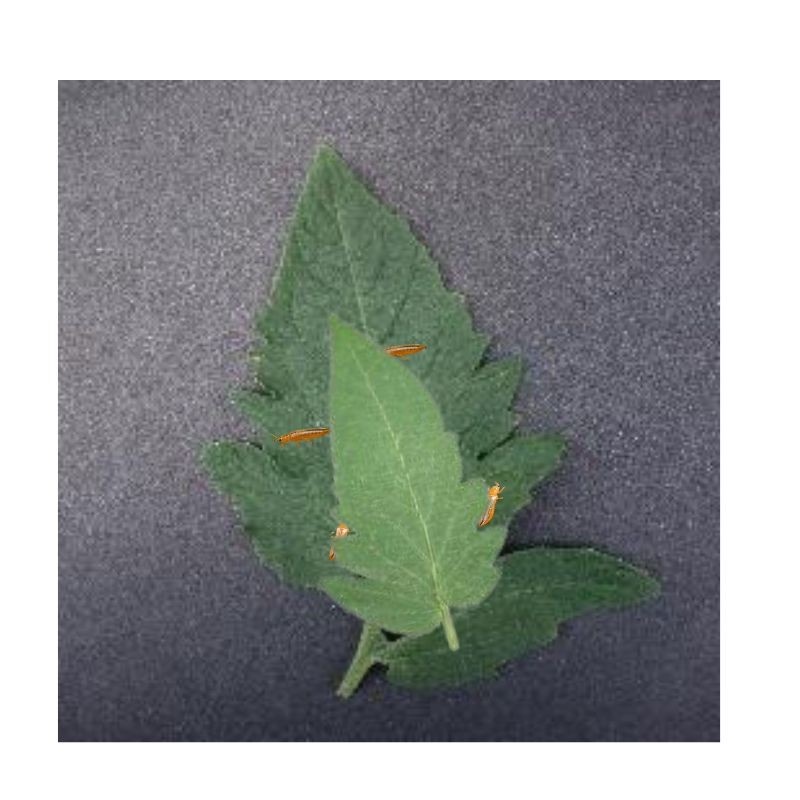thrips: (475, 481, 506, 527), (269, 424, 333, 445), (324, 520, 350, 558), (383, 341, 429, 358)
